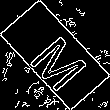M_NE: (20, 21, 90, 89)
